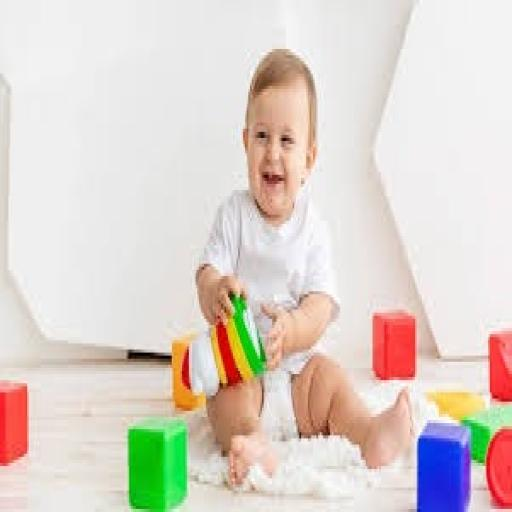baby: (196, 50, 411, 484)
